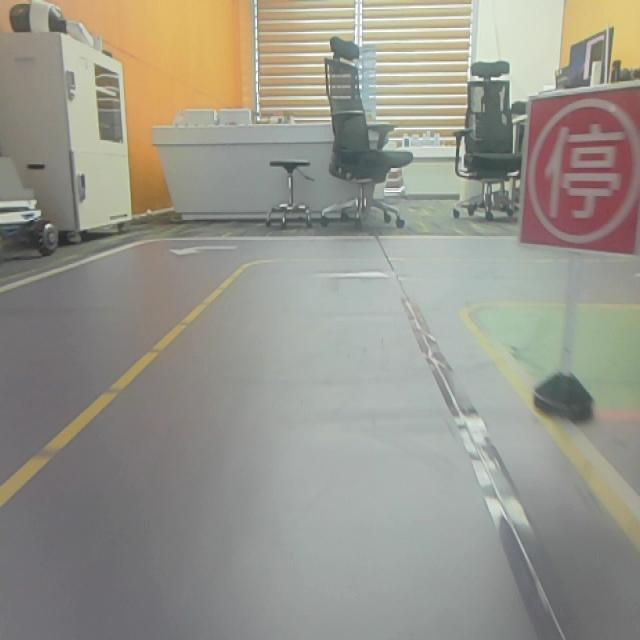left_lane: (2, 266, 248, 505)
right_lane: (463, 312, 640, 551)
